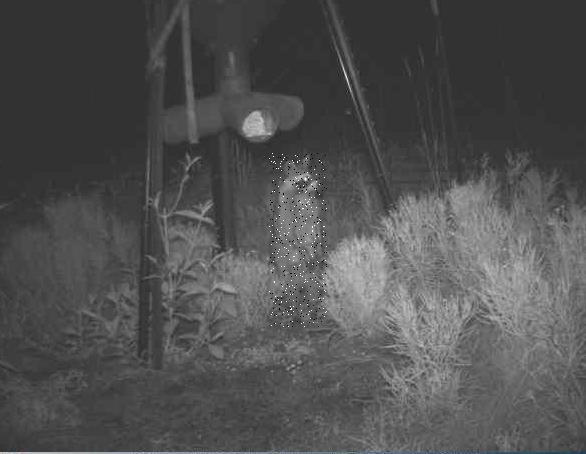Raccoon: (269, 154, 327, 328)
